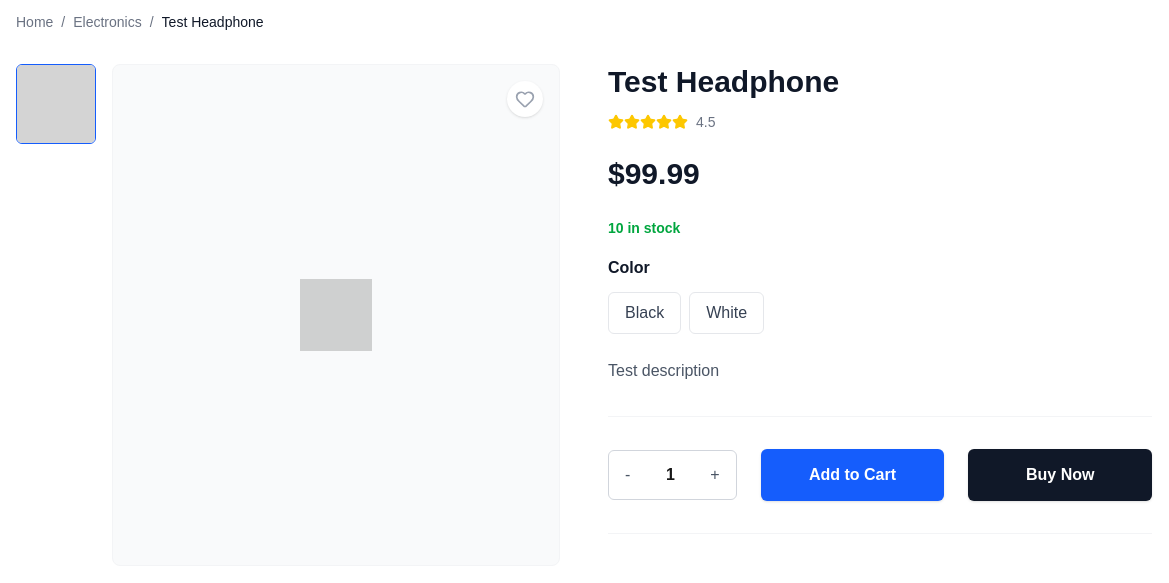
Product Details Page - Integration › updates price and stock when variant is changed, prevents out-of-stock cart add
# Click on White variant
Click the button "White" at [727, 313], box 689,292 -> 764,334
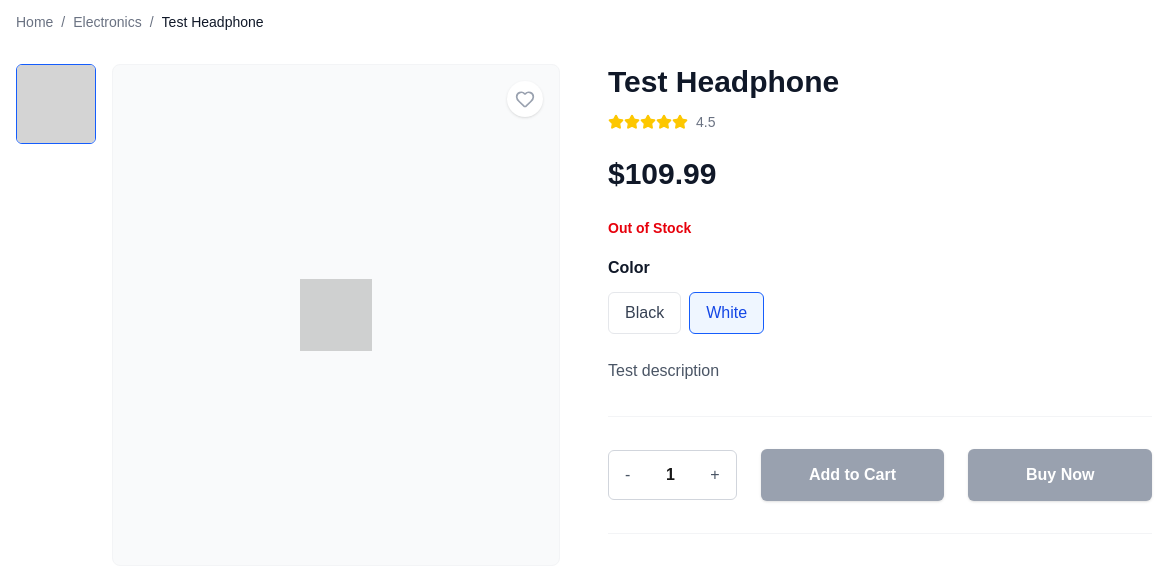
Check: the text "$109.99" is shown, box 608,156 -> 716,192
Check: the text "Out of Stock" is shown, box 608,220 -> 691,236
Check: the button "Add to Cart" is disabled, box 761,449 -> 944,501
